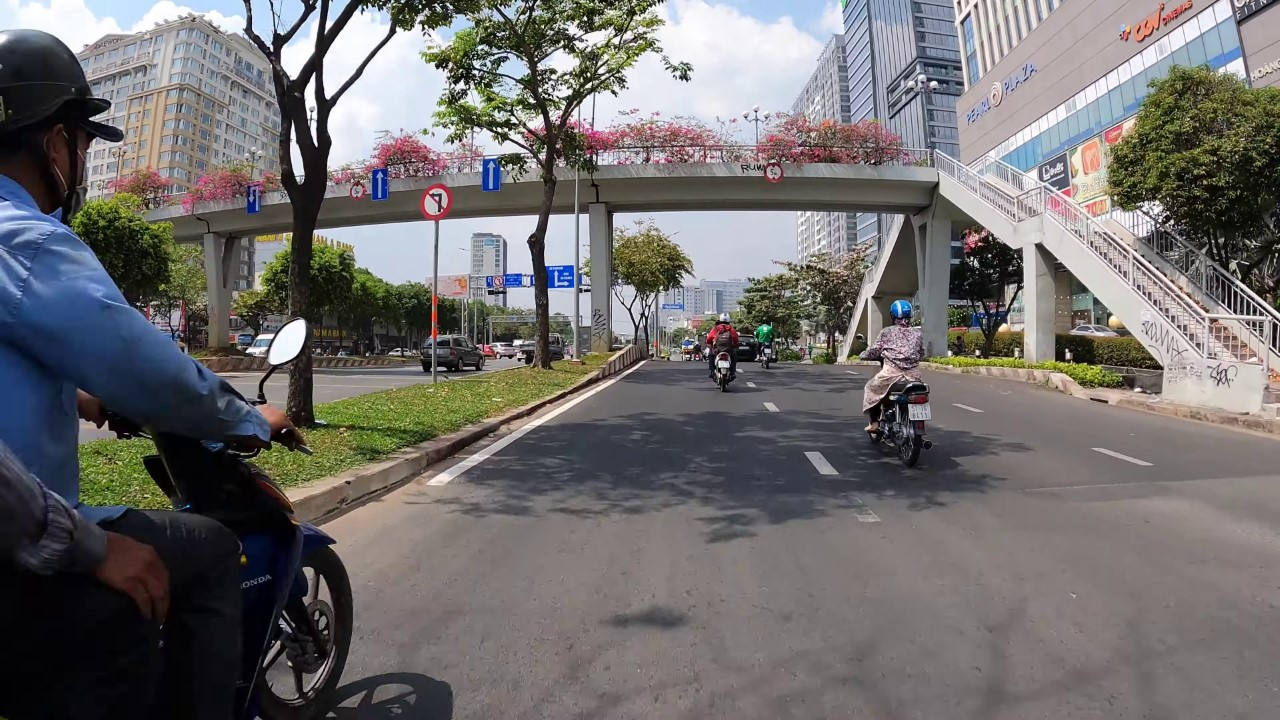cam_re_trai: (417, 181, 453, 222)
